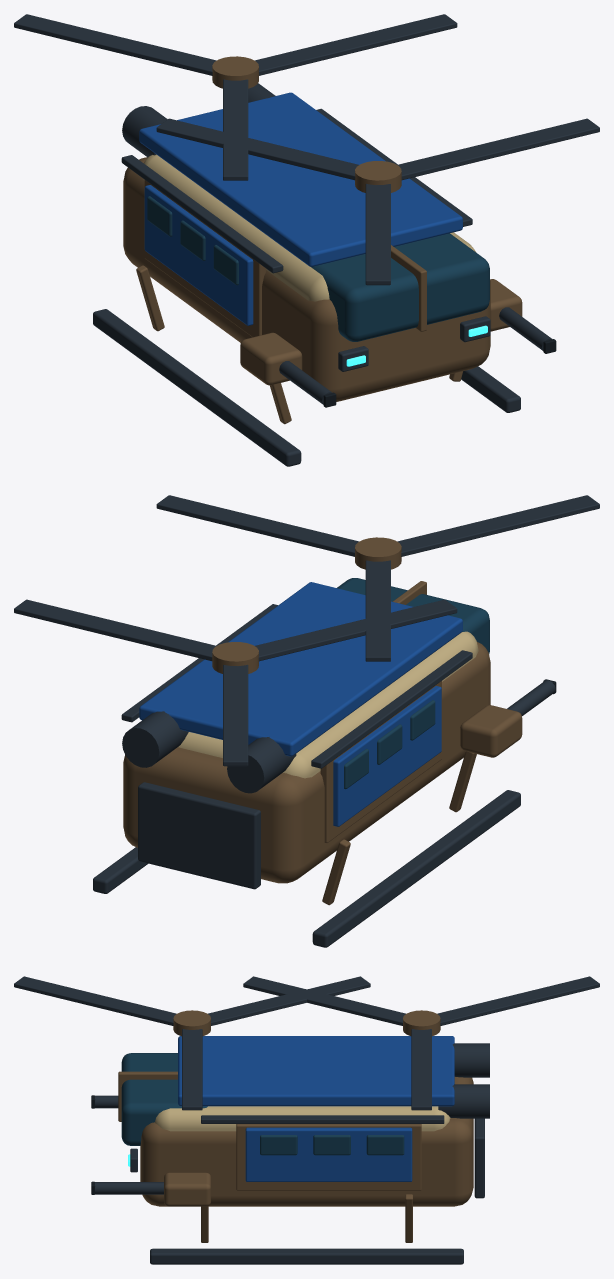
The model's file is scout-0.glb.
The picture shows the model from 3 angles, top to bottom: view 1: azimuth 30°, elevation 25°; view 2: azimuth 150°, elevation 25°; view 3: azimuth 270°, elevation 25°; orthographic projection. The views are drawn at different scales.
Parts seen in each view (by area): view 1: CargoRoof_4, TransportHull_0, ArmouredCockpit_2, SlidingCargoDoor_6, LandingSkid_11, CargoCabin_1, TransportRotorBlade_38, TransportRotorBlade_41, TransportRotorBlade_36, TransportRotorBlade_43, TransportRotorBlade_42, TransportRotorBlade_37 (+16 smaller); view 2: CargoRoof_4, TransportHull_0, RearCargoRamp_33, SlidingCargoDoor_6, LandingSkid_11, CargoCabin_1, TransportRotorBlade_42, TransportRotorBlade_36, TransportRotorBlade_41, TransportRotorBlade_37, TransportRotorBlade_38, MGMount_14 (+16 smaller); view 3: CargoRoof_4, TransportHull_0, SlidingCargoDoor_20, LandingSkid_25, ArmouredCockpit_2, CargoCabin_1, CargoDoorFrame_19, DoorRail_24, TransportRotorBlade_38, TransportRotorBlade_42, TransportRotorBlade_37, TransportRotorBlade_43 (+14 smaller).
Boxes of the visible parts, left/top/right/bottom form: CargoRoof_4: left=139, top=92, right=462, bottom=266; TransportHull_0: left=123, top=157, right=490, bottom=401; ArmouredCockpit_2: left=311, top=233, right=489, bottom=341; SlidingCargoDoor_6: left=144, top=185, right=253, bottom=325; LandingSkid_11: left=93, top=309, right=301, bottom=466; CargoCabin_1: left=143, top=154, right=476, bottom=301; TransportRotorBlade_38: left=14, top=14, right=216, bottom=75; TransportRotorBlade_41: left=397, top=118, right=599, bottom=180; TransportRotorBlade_36: left=255, top=14, right=457, bottom=75; TransportRotorBlade_43: left=156, top=118, right=358, bottom=180; TransportRotorBlade_42: left=365, top=183, right=390, bottom=285; TransportRotorBlade_37: left=223, top=79, right=248, bottom=180; CargoRoof_4: left=139, top=582, right=462, bottom=756; TransportHull_0: left=123, top=642, right=490, bottom=883; RearCargoRamp_33: left=138, top=782, right=260, bottom=889; SlidingCargoDoor_6: left=333, top=686, right=441, bottom=826; LandingSkid_11: left=312, top=790, right=520, bottom=947; CargoCabin_1: left=178, top=631, right=478, bottom=778; TransportRotorBlade_42: left=397, top=495, right=599, bottom=556; TransportRotorBlade_36: left=14, top=599, right=216, bottom=661; TransportRotorBlade_41: left=156, top=495, right=358, bottom=556; TransportRotorBlade_37: left=255, top=599, right=457, bottom=661; TransportRotorBlade_38: left=223, top=664, right=248, bottom=766; MGMount_14: left=460, top=705, right=522, bottom=757; CargoRoof_4: left=178, top=1036, right=454, bottom=1106; TransportHull_0: left=140, top=1077, right=473, bottom=1206; SlidingCargoDoor_20: left=245, top=1127, right=412, bottom=1181; LandingSkid_25: left=150, top=1248, right=463, bottom=1264; ArmouredCockpit_2: left=121, top=1053, right=207, bottom=1145; CargoCabin_1: left=155, top=1106, right=450, bottom=1131; CargoDoorFrame_19: left=236, top=1124, right=421, bottom=1190; DoorRail_24: left=201, top=1115, right=444, bottom=1123; TransportRotorBlade_38: left=437, top=976, right=599, bottom=1025; TransportRotorBlade_42: left=14, top=976, right=176, bottom=1025; TransportRotorBlade_37: left=243, top=976, right=405, bottom=1025; TransportRotorBlade_43: left=208, top=976, right=370, bottom=1025.
Bounding box in the file's own units: 2.04 × 1.41 × 3.73.
